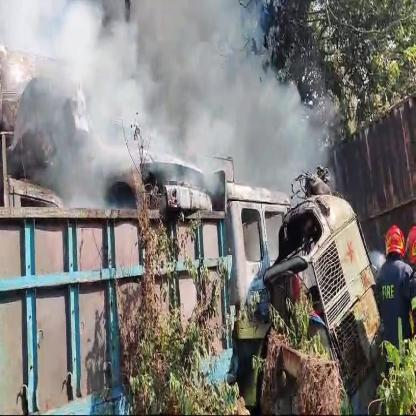Smoke: (0, 0, 346, 221)
